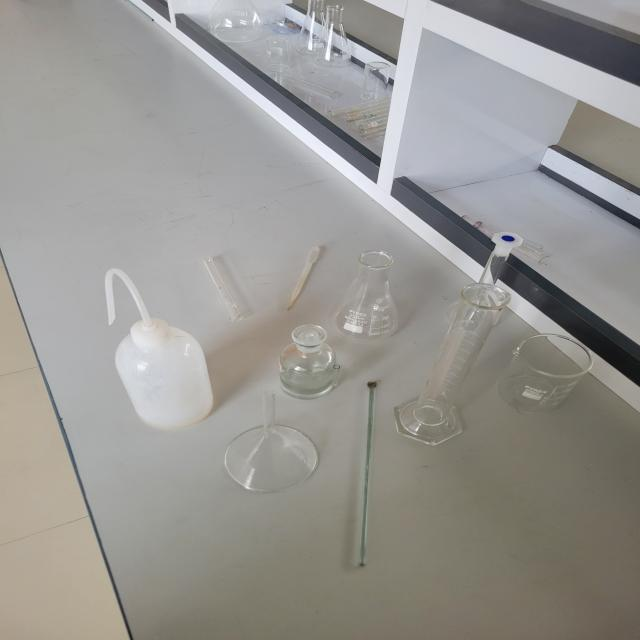Beaker: (482, 323, 610, 431)
Conical_Flask: (322, 247, 417, 345)
Funnel: (194, 383, 337, 513)
Glass_Rod: (339, 366, 390, 596)
Measuring_Cylinder: (390, 273, 527, 457)
Pipette: (272, 238, 342, 318)
Test_Tube: (190, 237, 268, 335)
Wash_Bottle: (80, 261, 224, 443)
